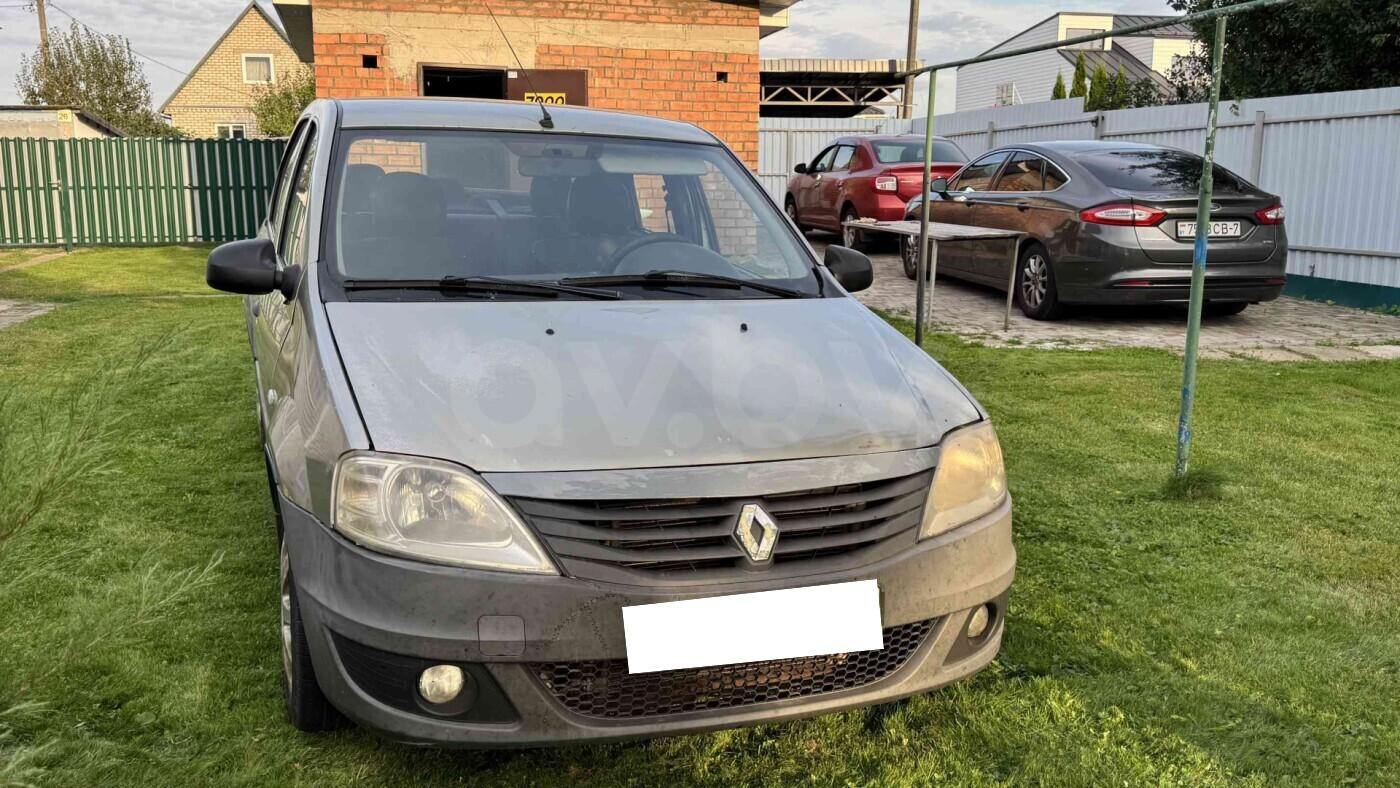Logan_2008-2015: (209, 88, 1032, 747)
